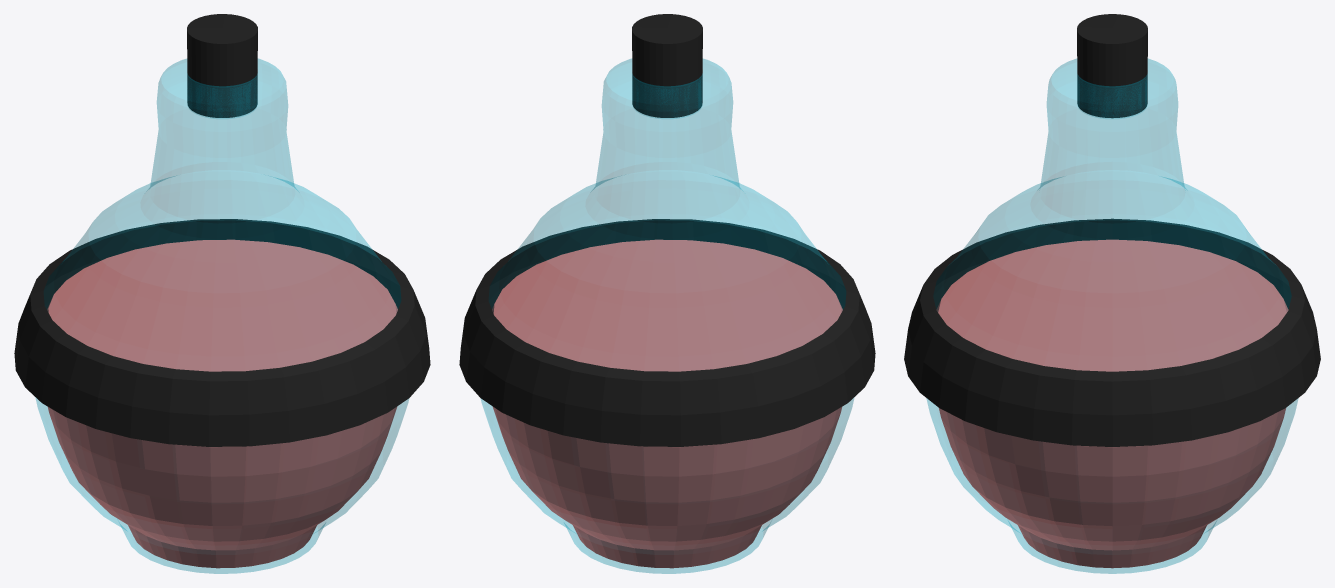
Rendered from potion.fbx.
3 views of the same model, side by side, from view 1: azimuth 30°, elevation 25°; view 2: azimuth 150°, elevation 25°; view 3: azimuth 270°, elevation 25° (orthographic).
Parts seen in each view (by area): view 1: Potion/original, liquid, Potion.001, Potion Top; view 2: Potion/original, liquid, Potion.001, Potion Top; view 3: Potion/original, liquid, Potion.001, Potion Top.
Part boxes in pixels (bbox=[...]): Potion/original: bbox=[35, 58, 408, 573]; liquid: bbox=[47, 239, 397, 568]; Potion.001: bbox=[14, 219, 430, 446]; Potion Top: bbox=[187, 14, 257, 117]; Potion/original: bbox=[481, 58, 854, 573]; liquid: bbox=[492, 239, 842, 568]; Potion.001: bbox=[459, 219, 875, 446]; Potion Top: bbox=[632, 14, 702, 117]; Potion/original: bbox=[926, 58, 1298, 573]; liquid: bbox=[936, 239, 1288, 568]; Potion.001: bbox=[904, 218, 1320, 446]; Potion Top: bbox=[1077, 14, 1147, 118].
Size of the model in its own units: 215 by 287 by 215.
